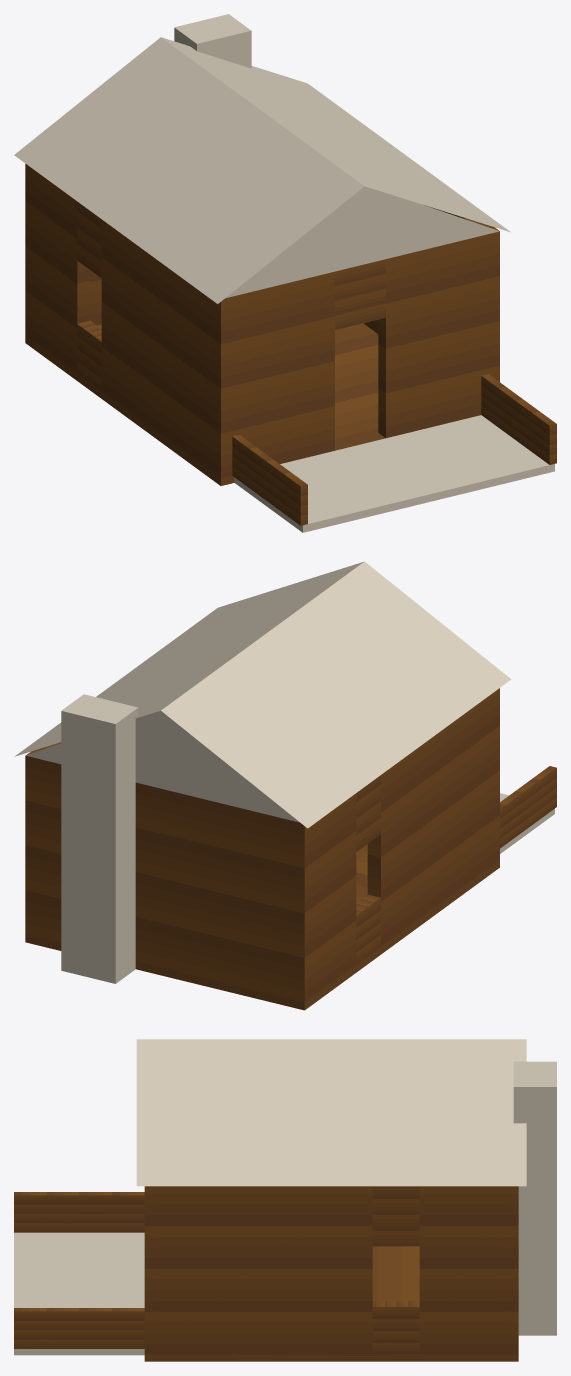
Rendered from pioneer-log-cabin.glb.
3 renders of one model, top to bottom at view 1: azimuth 30°, elevation 25°; view 2: azimuth 150°, elevation 25°; view 3: azimuth 270°, elevation 25°, orthographic. The views are drawn at different scales.
Parts seen in each view (by area): view 1: RoofAndGables, SouthFront, FrontRight, FrontLeft, PorchFloor, SouthBack, Floor, PorchRight, PorchLeft, EntranceLintel, Chimney, Back (+2 smaller); view 2: RoofAndGables, Back, SouthFront, Chimney, SouthBack, Floor, PorchLeft, NorthBack, SouthHeader, SouthSill; view 3: RoofAndGables, NorthFront, NorthBack, PorchFloor, Chimney, Floor, PorchLeft, PorchRight, NorthHeader, FrontRight, Back, NorthSill.
Part boxes in pixels (bbox=[...]): RoofAndGables: bbox=[14, 37, 510, 303]; SouthFront: bbox=[101, 219, 234, 477]; FrontRight: bbox=[378, 229, 499, 438]; FrontLeft: bbox=[213, 271, 334, 478]; PorchFloor: bbox=[234, 415, 554, 532]; SouthBack: bbox=[25, 164, 90, 372]; Floor: bbox=[25, 323, 385, 485]; PorchRight: bbox=[481, 374, 556, 464]; PorchLeft: bbox=[232, 435, 307, 525]; EntranceLintel: bbox=[335, 259, 385, 330]; Chimney: bbox=[174, 14, 251, 68]; Back: bbox=[25, 163, 101, 340]; RoofAndGables: bbox=[14, 561, 511, 828]; Back: bbox=[25, 750, 312, 1002]; SouthFront: bbox=[367, 688, 499, 946]; Chimney: bbox=[61, 694, 138, 983]; SouthBack: bbox=[291, 793, 356, 1001]; Floor: bbox=[25, 844, 499, 1010]; PorchLeft: bbox=[500, 766, 556, 848]; NorthBack: bbox=[25, 742, 61, 935]; SouthHeader: bbox=[356, 775, 380, 851]; SouthSill: bbox=[356, 894, 380, 964]; RoofAndGables: bbox=[136, 1039, 526, 1186]; NorthFront: bbox=[144, 1186, 372, 1354]; NorthBack: bbox=[419, 1186, 517, 1354]; PorchFloor: bbox=[14, 1232, 144, 1355]; Chimney: bbox=[513, 1061, 556, 1335]; Floor: bbox=[144, 1246, 518, 1361]; PorchLeft: bbox=[14, 1192, 144, 1232]; PorchRight: bbox=[14, 1308, 144, 1348]; NorthHeader: bbox=[372, 1186, 419, 1246]; FrontRight: bbox=[144, 1186, 159, 1354]; Back: bbox=[503, 1186, 518, 1354]; NorthSill: bbox=[372, 1301, 419, 1354].
Size of the model in its own units: 4.85 by 4.24 by 8.12.
2 materials, 1 textured.
